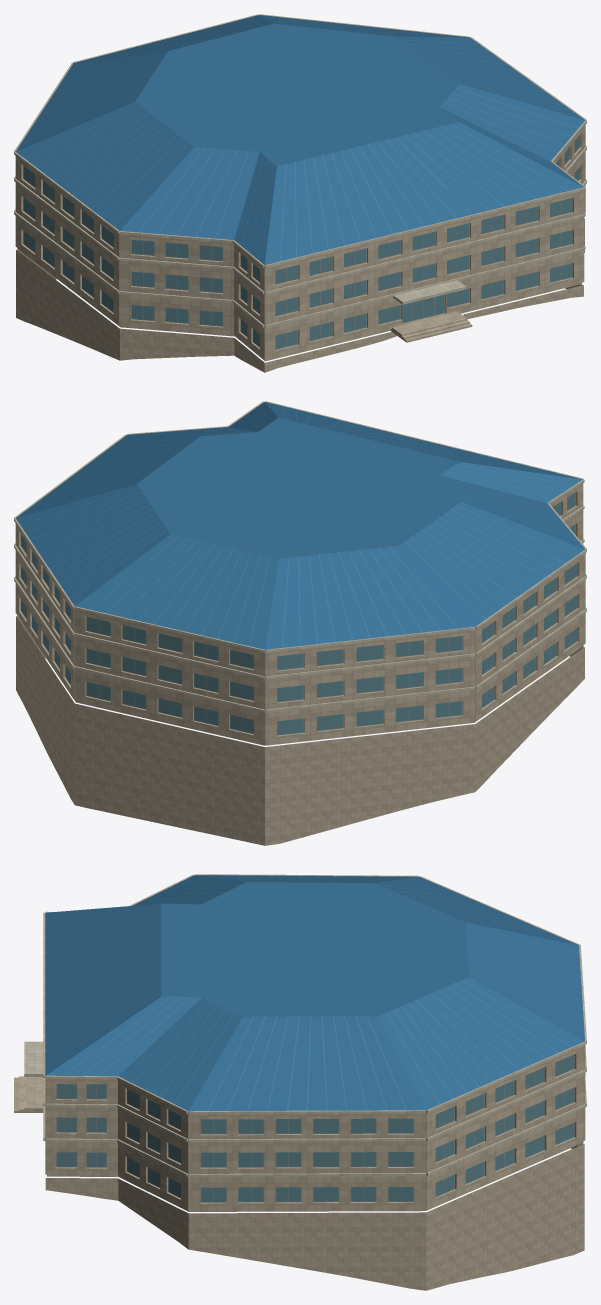
The picture shows the model from 3 angles, top to bottom: view 1: azimuth 30°, elevation 25°; view 2: azimuth 150°, elevation 25°; view 3: azimuth 270°, elevation 25°; orthographic projection. The views are drawn at different scales.
Parts seen in each view (by area): view 1: gym__blueRoof, gym__stone, gym__glass, gym__foundationSkirt, gym__trim, gym__roofrib, gym__frame, gym__stair-front, gym__threshold-front; view 2: gym__blueRoof, gym__foundationSkirt, gym__stone, gym__glass, gym__trim, gym__roofrib, gym__frame; view 3: gym__blueRoof, gym__stone, gym__foundationSkirt, gym__glass, gym__trim, gym__roofrib, gym__frame, gym__threshold-front, gym__stair-front.
Boxes of the visible parts, x1=… form: gym__blueRoof: x1=16, y1=15, x2=584, y2=264; gym__stone: x1=15, y1=125, x2=585, y2=361; gym__glass: x1=23, y1=135, x2=579, y2=349; gym__foundationSkirt: x1=16, y1=218, x2=584, y2=372; gym__trim: x1=14, y1=14, x2=586, y2=327; gym__roofrib: x1=21, y1=16, x2=578, y2=260; gym__frame: x1=23, y1=135, x2=579, y2=349; gym__stair-front: x1=399, y1=317, x2=472, y2=342; gym__threshold-front: x1=390, y1=311, x2=464, y2=337; gym__blueRoof: x1=16, y1=402, x2=584, y2=649; gym__foundationSkirt: x1=16, y1=615, x2=584, y2=845; gym__stone: x1=15, y1=483, x2=585, y2=745; gym__glass: x1=21, y1=492, x2=576, y2=734; gym__trim: x1=14, y1=401, x2=586, y2=712; gym__roofrib: x1=20, y1=405, x2=577, y2=647; gym__frame: x1=21, y1=492, x2=577, y2=735; gym__blueRoof: x1=45, y1=875, x2=584, y2=1111; gym__stone: x1=45, y1=1045, x2=585, y2=1211; gym__foundationSkirt: x1=45, y1=1143, x2=584, y2=1290; gym__glass: x1=57, y1=1054, x2=573, y2=1201; gym__trim: x1=24, y1=874, x2=586, y2=1177; gym__roofrib: x1=45, y1=875, x2=583, y2=1110; gym__frame: x1=56, y1=1054, x2=574, y2=1202; gym__threshold-front: x1=28, y1=1077, x2=43, y2=1112; gym__stair-front: x1=14, y1=1075, x2=28, y2=1112.
Size of the model in its own units: 51.22 by 25.43 by 52.16.
7 materials, 3 textured.
